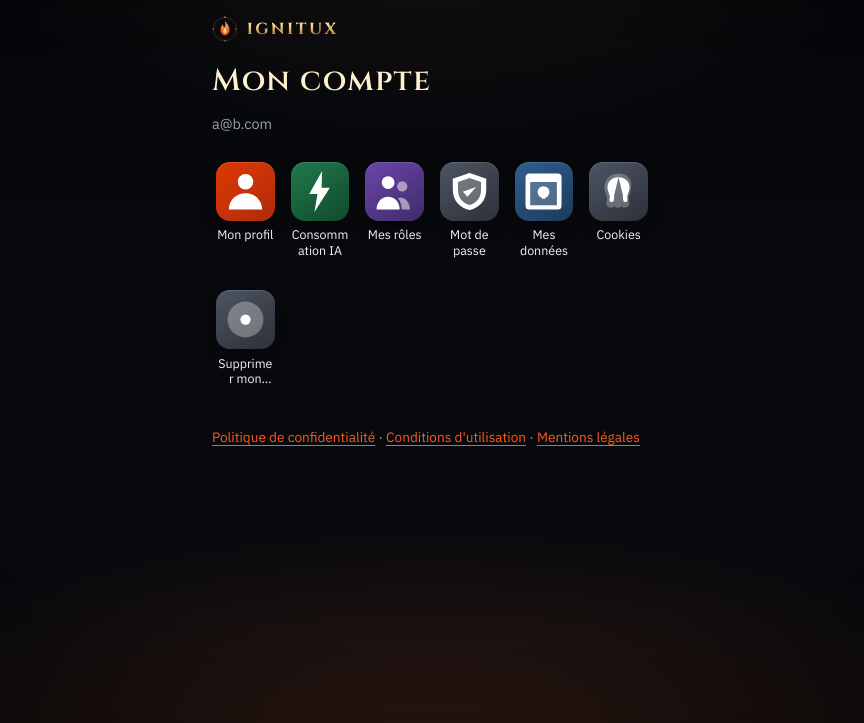
Test: AccountPage › affiche une confirmation après un changement de mot de passe réussi
Click the button "Mot de passe".
click(469, 210)  # box [440,158,499,262]
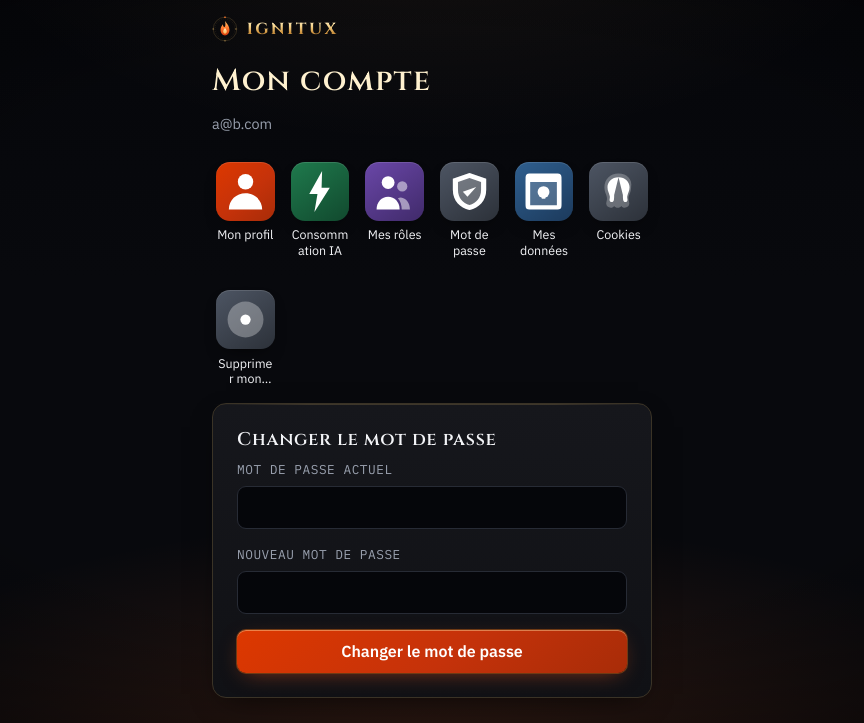
Type "ancien" into the password field labelled "Mot de passe actuel".
click(432, 507); type("ancien")  # box [237,486,627,529]
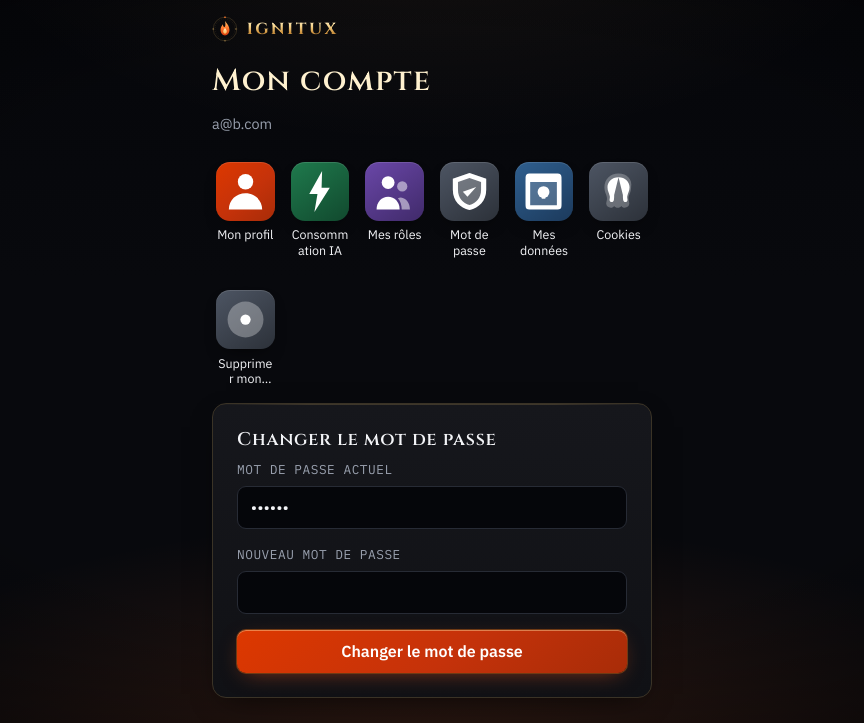
Type "nouveau123" into the password field labelled "Nouveau mot de passe".
click(432, 592); type("nouveau123")  # box [237,571,627,614]
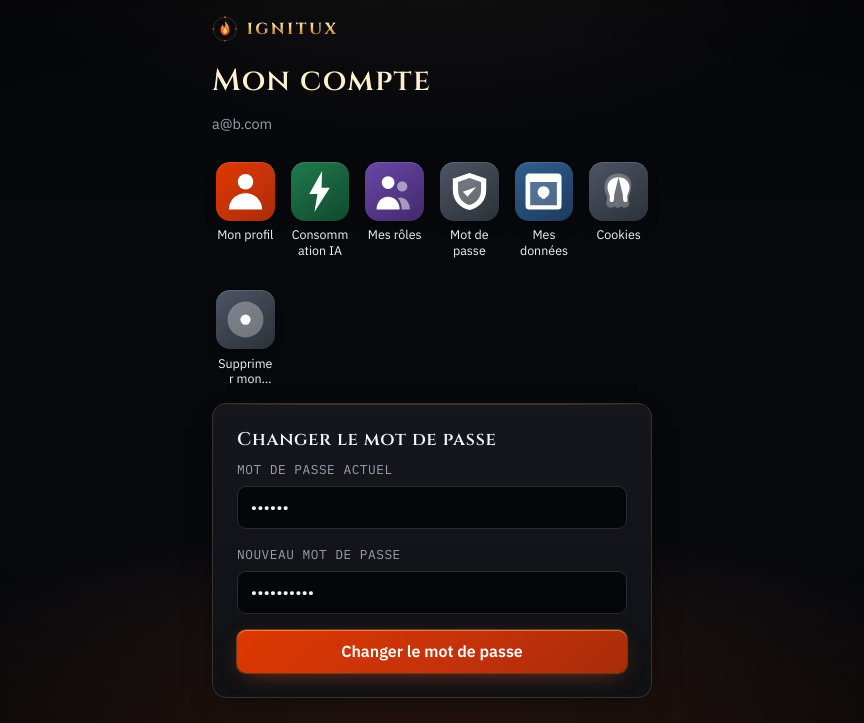
Click the button "Changer le mot de passe".
click(432, 651)  # box [237,630,627,673]
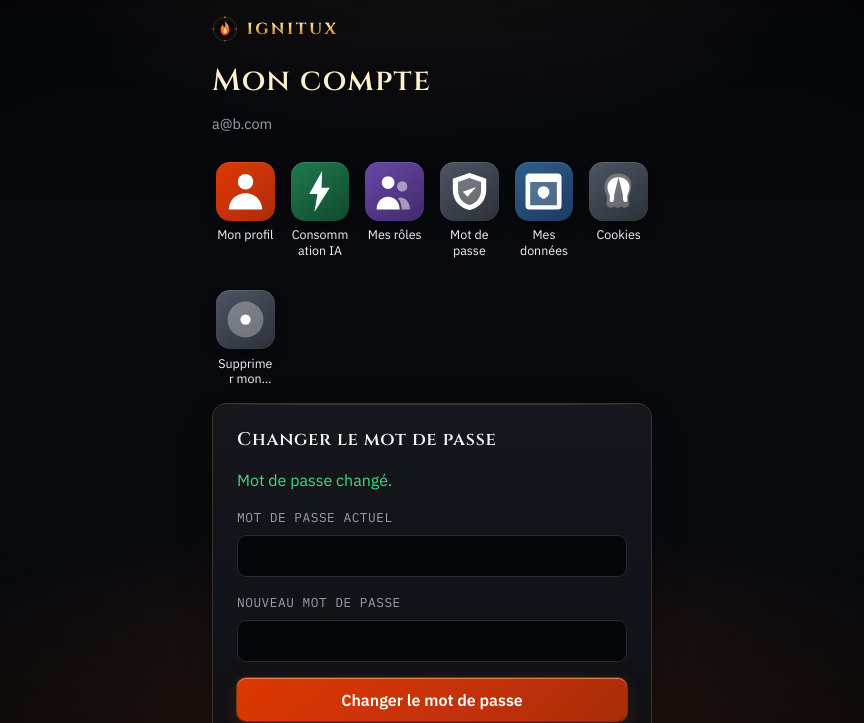
Now the text "Mot de passe changé." is shown, box [237,470,392,490]
